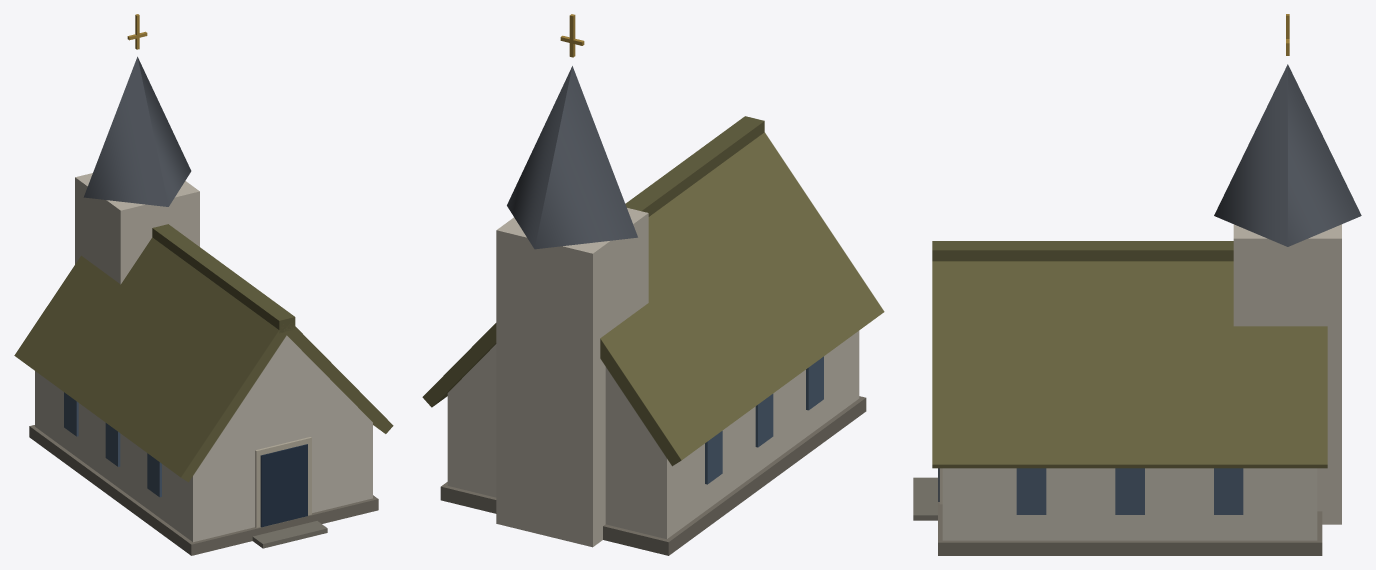
File: procedural_monastery@3.glb
3 renders of one model, left to right at view 1: azimuth 30°, elevation 25°; view 2: azimuth 150°, elevation 25°; view 3: azimuth 270°, elevation 25°, orthographic. The views are drawn at different scales.
Parts seen in each view (by area): view 1: part_0; view 2: part_0; view 3: part_0.
Boxes of the visible parts, left/top/right/bottom form: part_0: left=14, top=14, right=393, bottom=555; part_0: left=422, top=14, right=884, bottom=555; part_0: left=913, top=14, right=1361, bottom=555.
Bounding box in the file's own units: 5.92 × 10.9 × 9.1.
